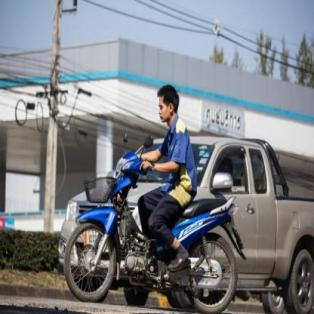Motocicleta: (58, 140, 248, 313)
